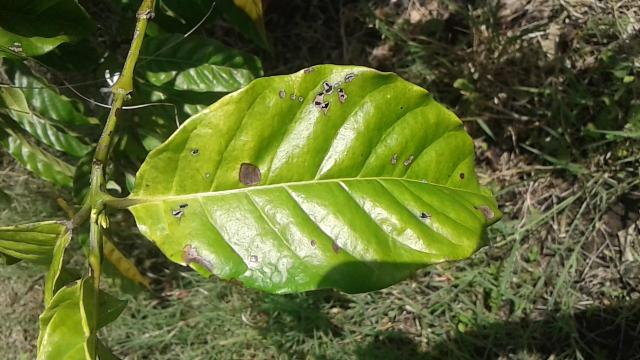red_spider_mite: (126, 57, 506, 300)
